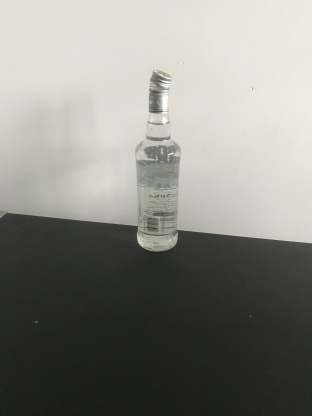nakretka: (147, 66, 173, 112)
